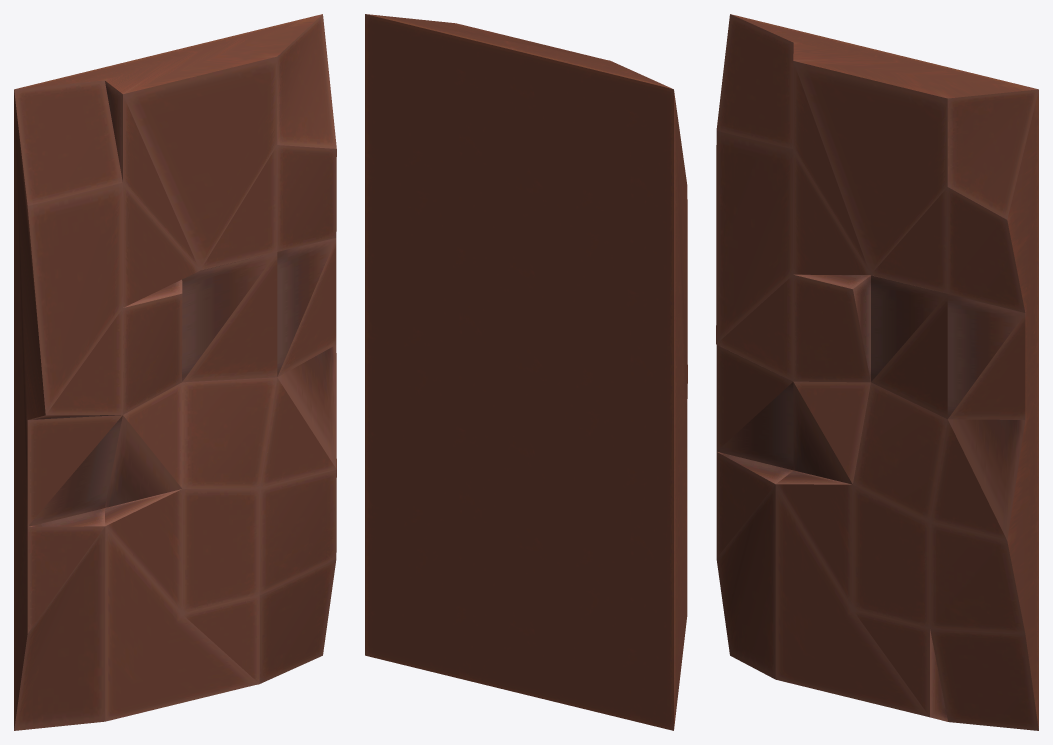
The model's file is chocolate_LOD2.fbx.
3 renders of one model, left to right at view 1: azimuth 30°, elevation 25°; view 2: azimuth 150°, elevation 25°; view 3: azimuth 330°, elevation 25°, orthographic.
Visible parts, largest first — view 1: Object_2; view 2: Object_2; view 3: Object_2.
Boxes of the visible parts, x1,y1,x2,y2 form: Object_2: (14,14,336,730); Object_2: (365,14,687,730); Object_2: (716,14,1038,730).
Bounding box in the file's own units: 0.0725 × 0.144 × 0.00924.
Materials: 1 (1 with a texture image).
